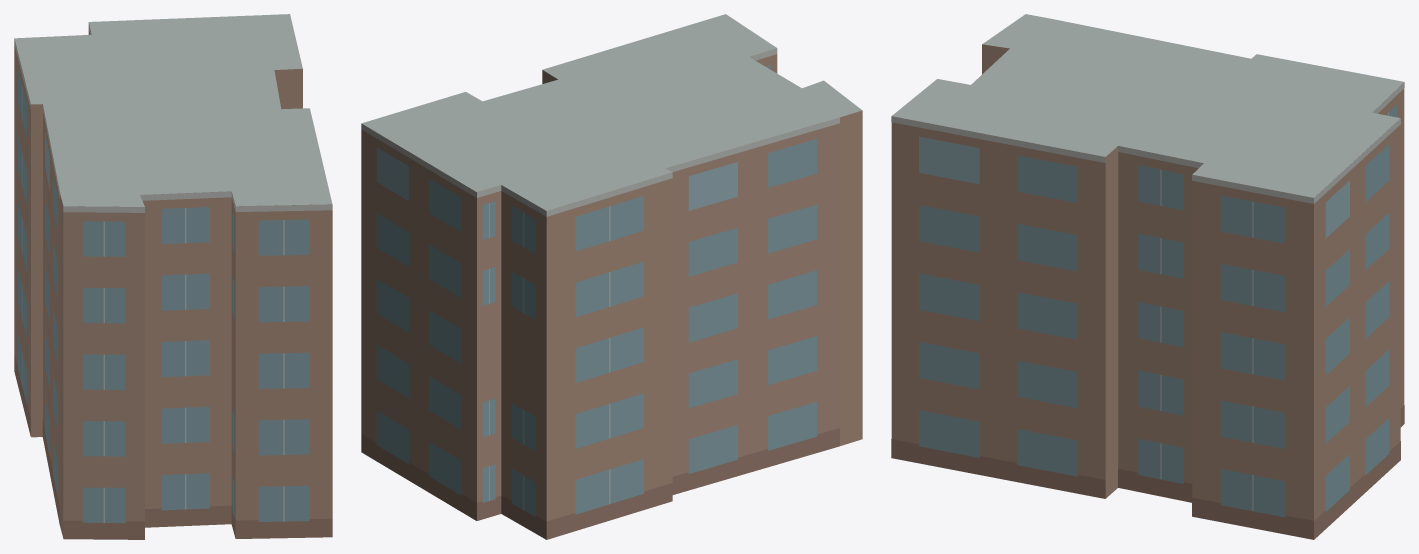
Rendered from survey-upis-32532591.glb.
3 views of the same model, side by side, from view 1: azimuth 30°, elevation 25°; view 2: azimuth 150°, elevation 25°; view 3: azimuth 270°, elevation 25° (orthographic). The views are drawn at different scales.
Visible parts, largest first — view 1: survey-upis-32532591.tmp; view 2: survey-upis-32532591.tmp; view 3: survey-upis-32532591.tmp.
Boxes of the visible parts, <box> form: survey-upis-32532591.tmp: <box>14,14,332,539</box>; survey-upis-32532591.tmp: <box>361,14,862,539</box>; survey-upis-32532591.tmp: <box>891,14,1404,539</box>.
Size of the model in its own units: 15.81 by 13.7 by 18.64.
